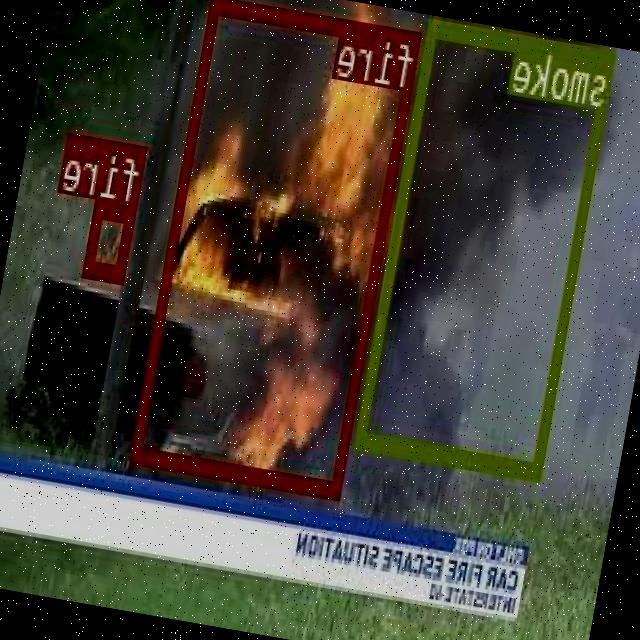fire: (133, 0, 423, 494), (84, 196, 138, 281)
smoke: (357, 18, 618, 477)
